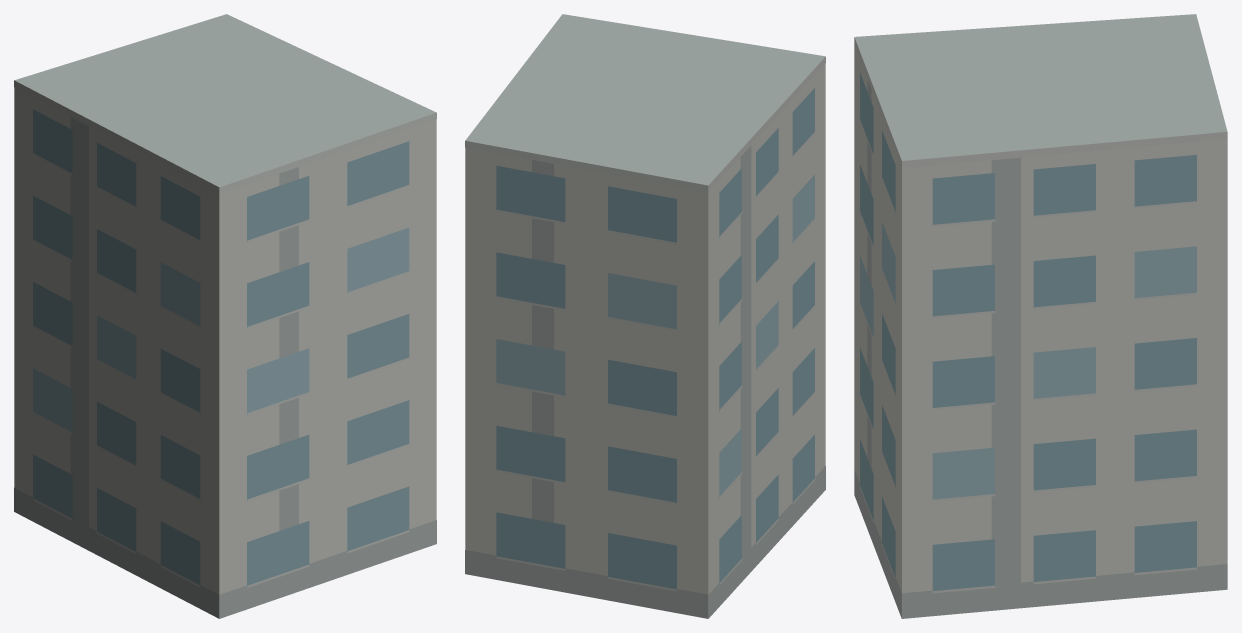
Rendered from residential-58697497-1931-4eef-8ddb-a2262ac96764.glb.
The picture shows the model from 3 angles, left to right: view 1: azimuth 30°, elevation 25°; view 2: azimuth 150°, elevation 25°; view 3: azimuth 270°, elevation 25°; orthographic projection. The views are drawn at different scales.
Parts seen in each view (by area): view 1: residential-58697497-1931-4eef-8ddb-a2262ac96764.tmp; view 2: residential-58697497-1931-4eef-8ddb-a2262ac96764.tmp; view 3: residential-58697497-1931-4eef-8ddb-a2262ac96764.tmp.
Part boxes in pixels (x1,y1,x2,y2): residential-58697497-1931-4eef-8ddb-a2262ac96764.tmp: [14, 14, 436, 618]; residential-58697497-1931-4eef-8ddb-a2262ac96764.tmp: [465, 14, 825, 618]; residential-58697497-1931-4eef-8ddb-a2262ac96764.tmp: [854, 14, 1227, 618].
Size of the model in its own units: 10.51 by 15.25 by 11.28.
